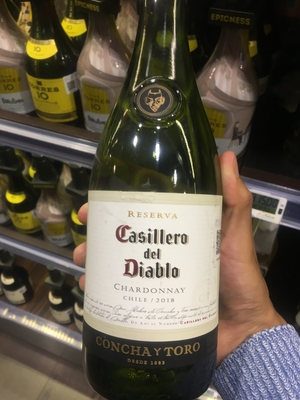casillero del diablo chardonnay: (79, 24, 229, 378)
